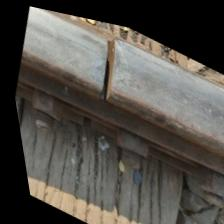person: (36, 6, 173, 134)
